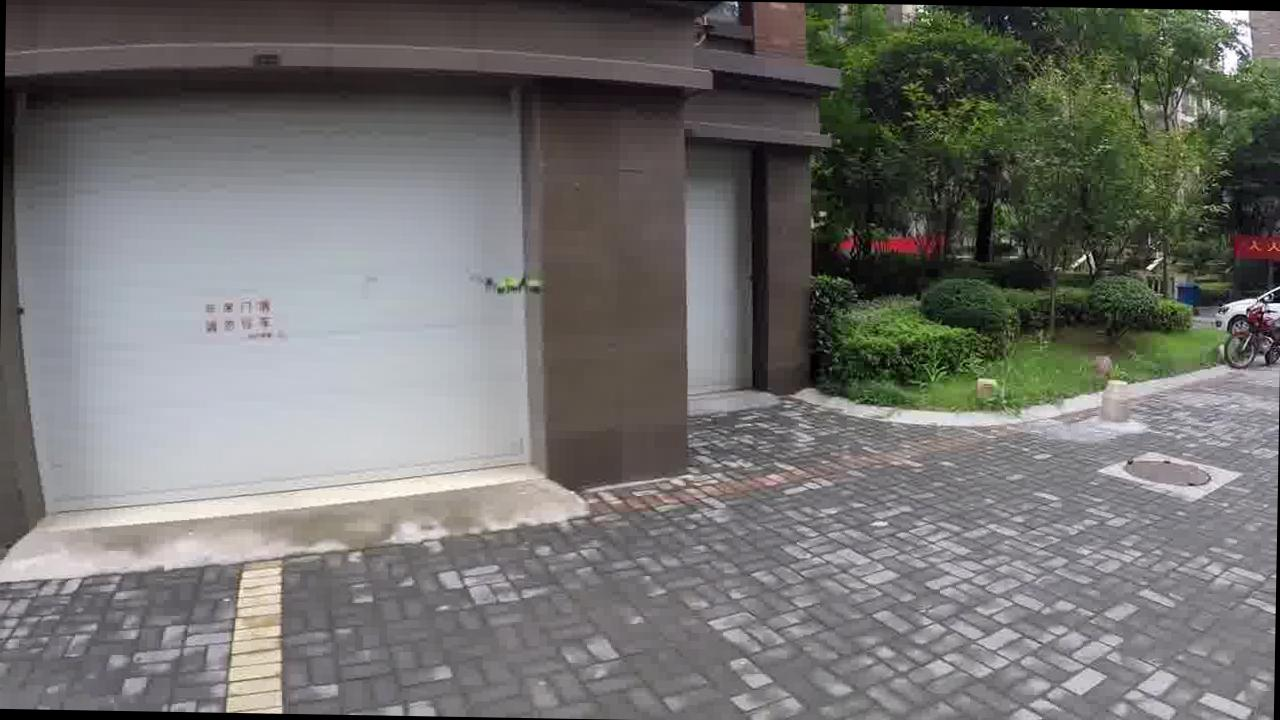drone: (477, 252, 538, 313)
